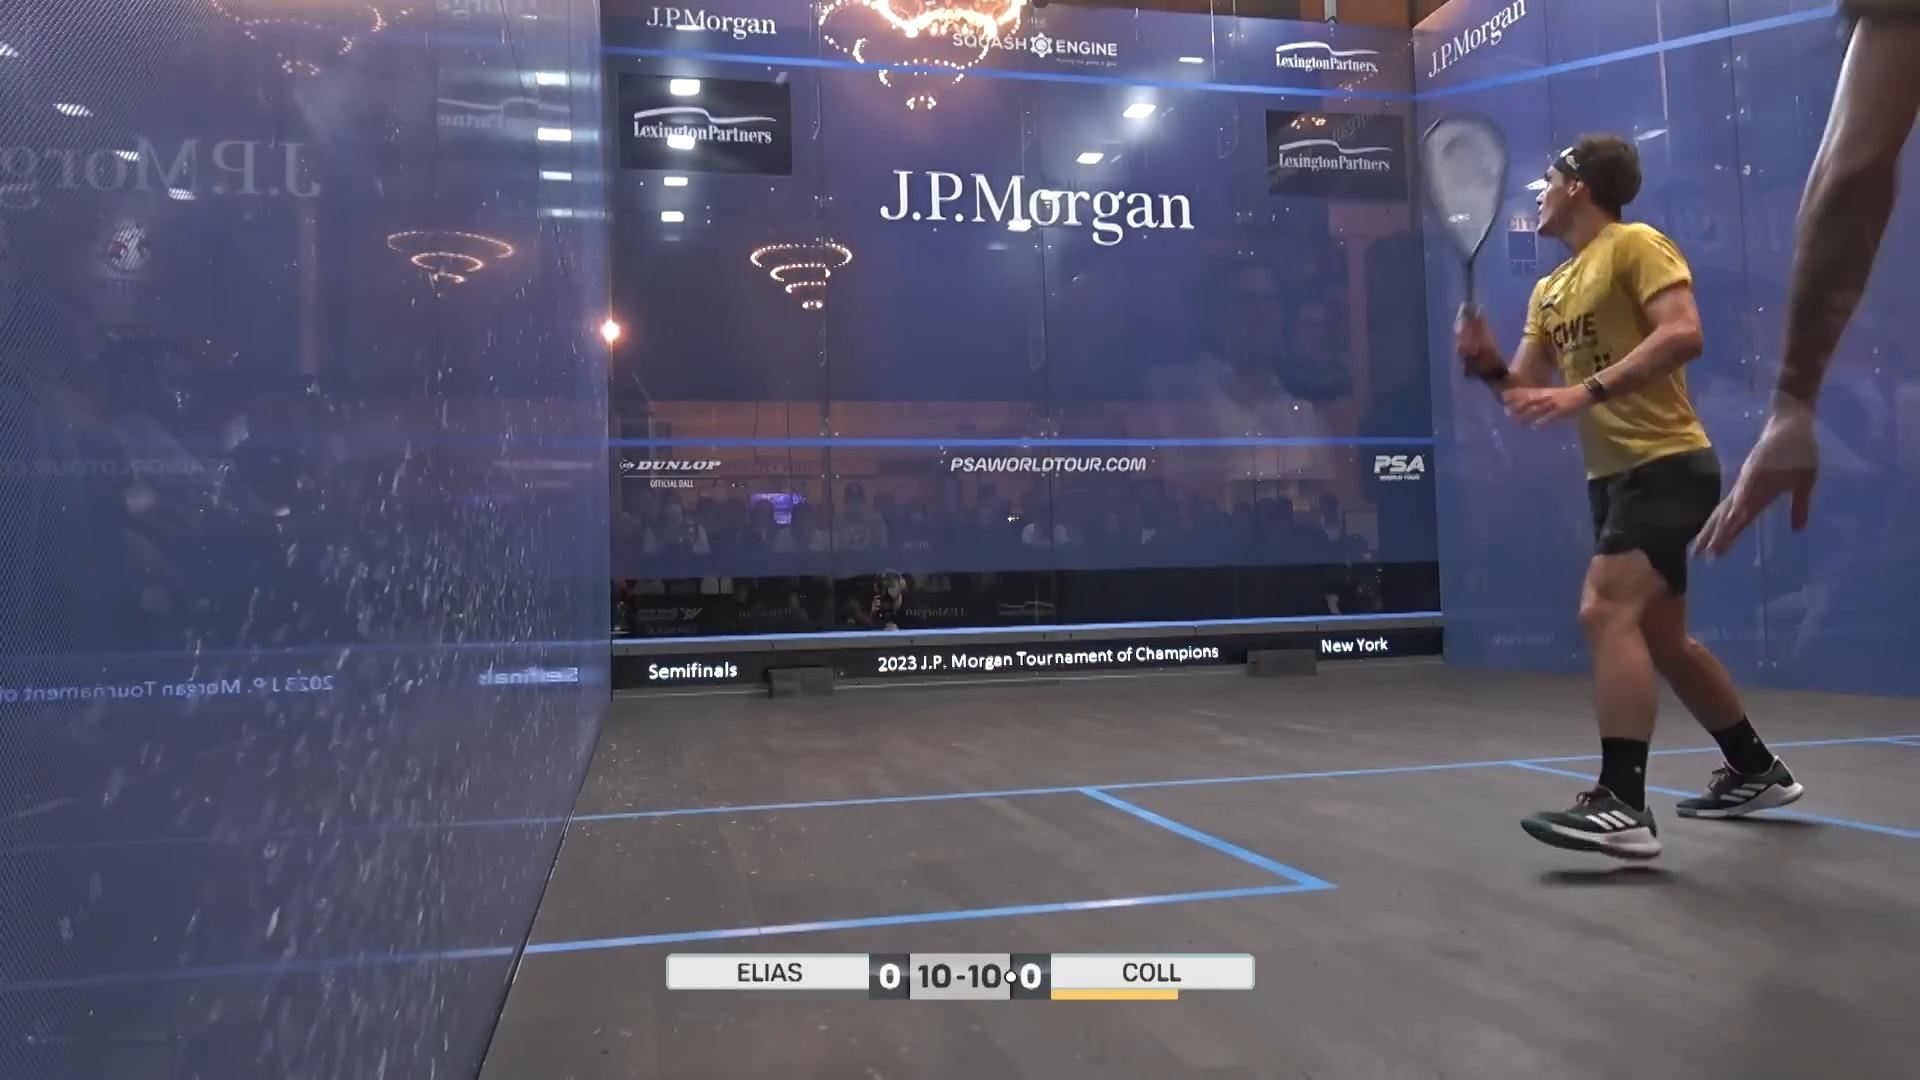Racket: (1414, 98, 1519, 363)
